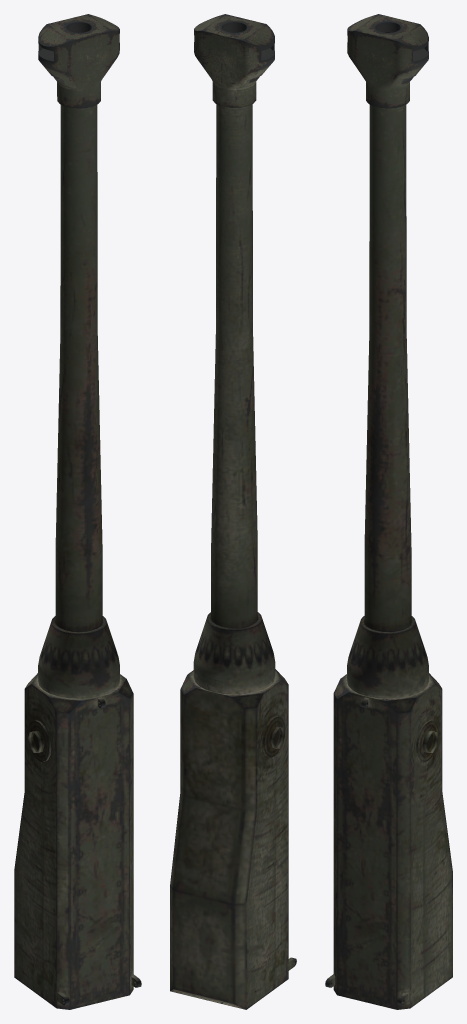
File: Gun_02.glb
3 views of the same model, side by side, from view 1: azimuth 30°, elevation 25°; view 2: azimuth 150°, elevation 25°; view 3: azimuth 330°, elevation 25° (orthographic).
Visible parts, largest first — view 1: set_0_group_0; view 2: set_0_group_0; view 3: set_0_group_0.
Part boxes in pixels (box(x1,y1,x2,y2)): set_0_group_0: box(14, 14, 141, 1009); set_0_group_0: box(170, 14, 296, 1009); set_0_group_0: box(325, 14, 452, 1009).
Bounding box in the file's own units: 0.5404 × 5.49 × 0.58.
1 material, 1 textured.
